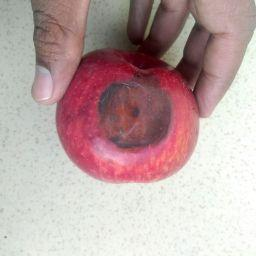apple: (51, 29, 205, 203)
